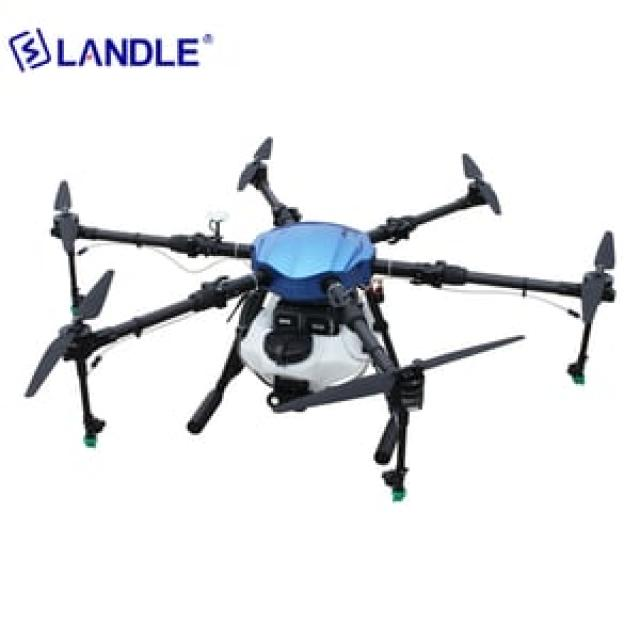drone: (8, 135, 640, 533)
